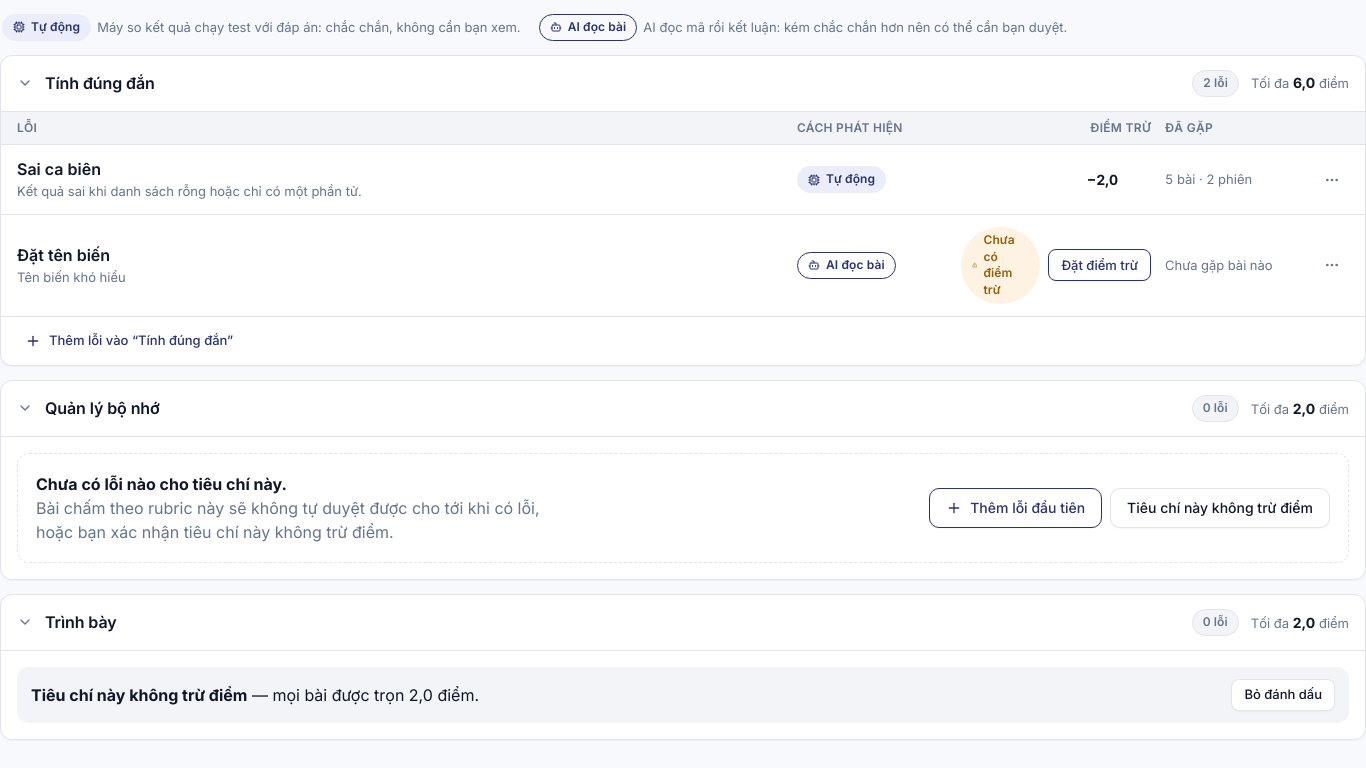
it: ErrorsTab — nhóm theo tiêu chí (T-RBE-UI-2) › lỗi chưa có điểm trừ: nhãn cảnh báo và nút "Đặt điểm trừ" mở ô nổi
Expected: the text "Chưa có điểm trừ" is shown, [961, 227, 1040, 304]
Click the button "Đặt điểm trừ": (1100, 266) [1048, 250, 1151, 282]
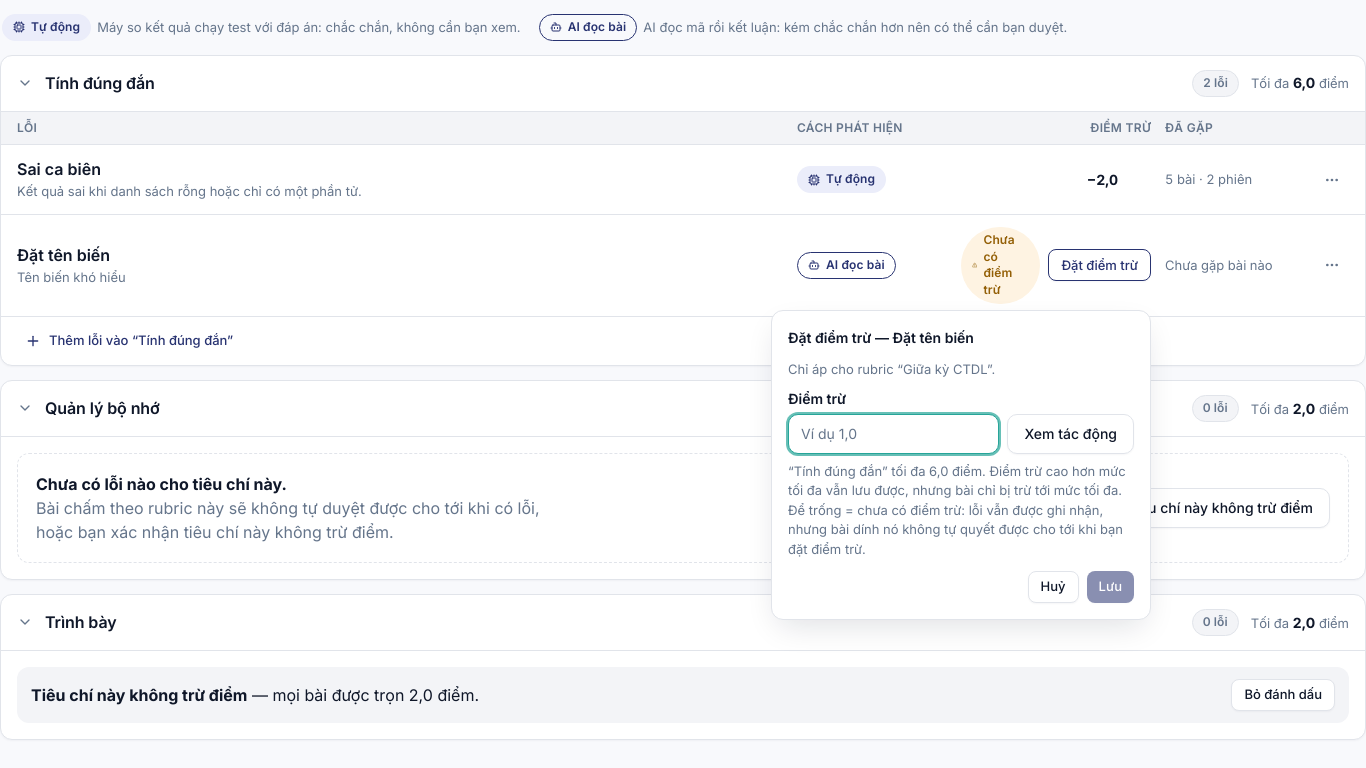
Expected: the dialog named "Đặt điểm trừ Đặt tên biến" is shown, [771, 310, 1151, 620]
